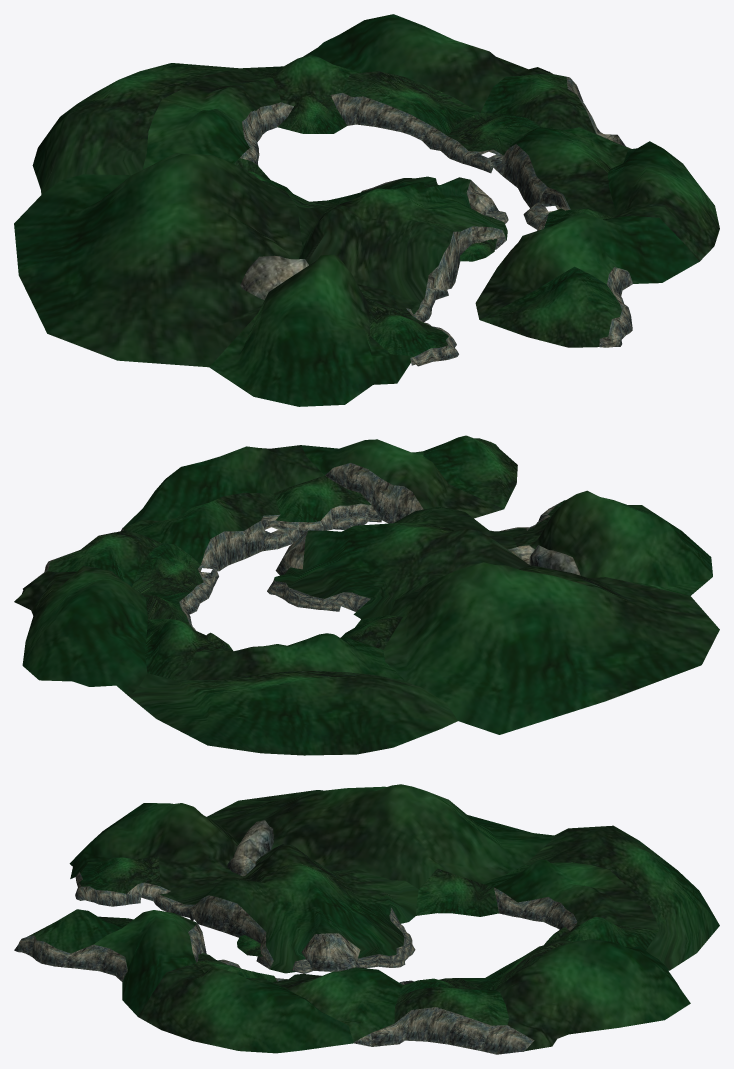
Rendered from pir_m_are_isl_pearl_dock_lod.fbx.
3 renders of one model, top to bottom at view 1: azimuth 30°, elevation 25°; view 2: azimuth 150°, elevation 25°; view 3: azimuth 270°, elevation 25°, orthographic. The views are drawn at different scales.
Visible parts, largest first — view 1: backHills, cliff_10, cliff_6, mound_large1_high1, cliff_1, hill31; view 2: backHills, cliff_10, cliff_8, hill25, hill21, mound_large1_high1, rock_12, rock_11; view 3: backHills, cliff_7, cliff_6, cliff_1, rock_11, cliff_10, hill31, mound_large1_high1, hill21.
Part boxes in pixels (x1,y1,x2,y2): backHills: [14, 14, 719, 406]; cliff_10: [240, 93, 570, 210]; cliff_6: [414, 226, 506, 322]; mound_large1_high1: [240, 255, 308, 300]; cliff_1: [599, 267, 632, 347]; hill31: [406, 308, 458, 366]; backHills: [14, 435, 719, 755]; cliff_10: [179, 514, 280, 630]; cliff_8: [325, 463, 423, 523]; hill25: [268, 503, 381, 536]; hill21: [267, 568, 370, 611]; mound_large1_high1: [530, 545, 580, 575]; rock_12: [262, 525, 300, 551]; rock_11: [275, 531, 307, 575]; backHills: [27, 784, 719, 1053]; cliff_7: [353, 1007, 534, 1054]; cliff_6: [154, 894, 273, 969]; cliff_1: [14, 935, 127, 981]; rock_11: [301, 933, 365, 971]; cliff_10: [399, 887, 577, 984]; hill31: [75, 872, 170, 906]; mound_large1_high1: [233, 820, 273, 861]; hill21: [358, 907, 415, 968].
Bounding box in the file's own units: 848481 × 133728 × 932045.
1 material, 1 textured.
